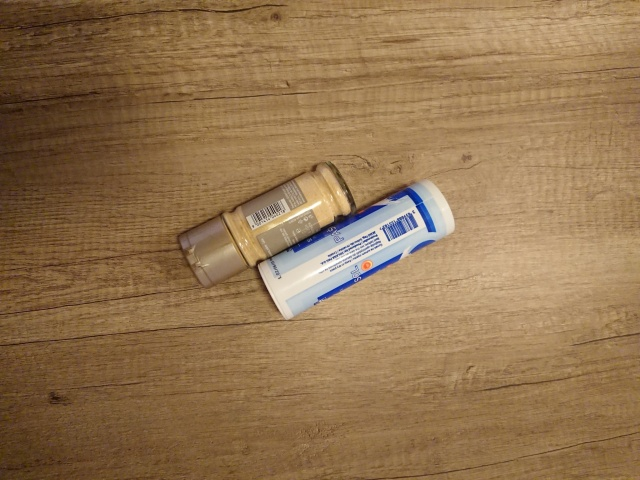Kotanyi Garlic Granules 70g: (174, 159, 360, 291)
Solana Pag Fine Sea Salt 250g: (254, 176, 457, 323)
